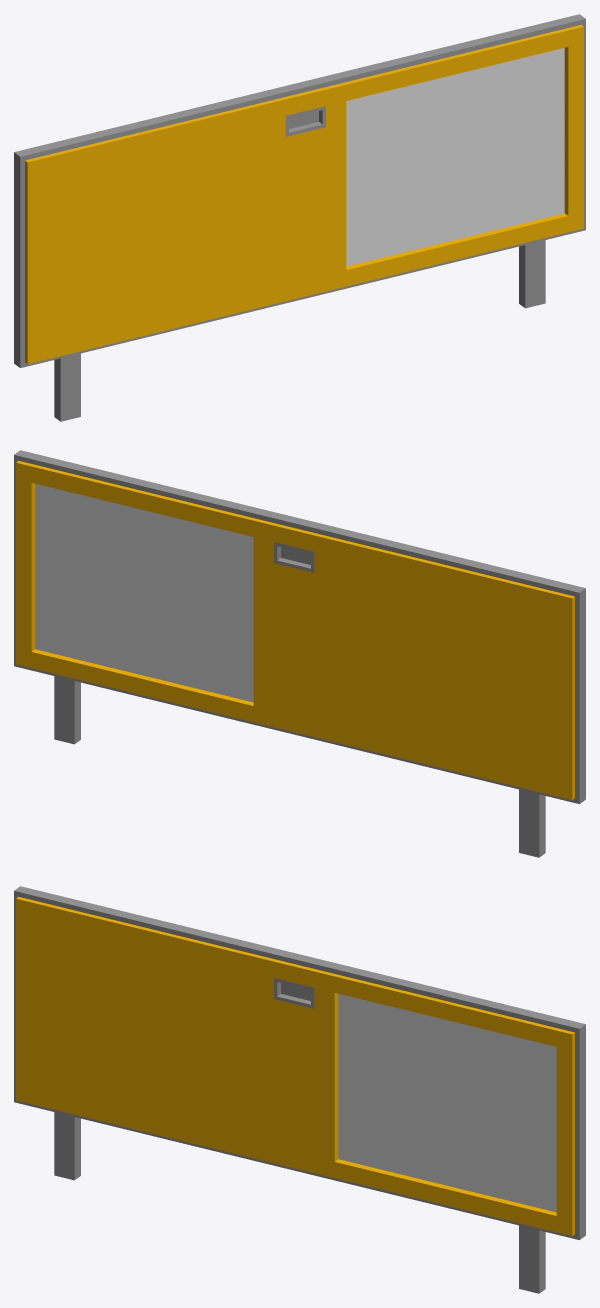
The model's file is door_manual_window_7x3_dynamic.dae.
3 views of the same model, one above another, from view 1: azimuth 30°, elevation 25°; view 2: azimuth 150°, elevation 25°; view 3: azimuth 330°, elevation 25° (orthographic).
Visible parts, largest first — view 1: Cube; view 2: Cube; view 3: Cube.
Boxes of the visible parts, box(x1,y1,x2,y2) form: Cube: box(14, 14, 585, 421); Cube: box(14, 450, 585, 857); Cube: box(14, 886, 585, 1293).
Bounding box in the file's own units: 1.75 × 0.0625 × 0.8125.
